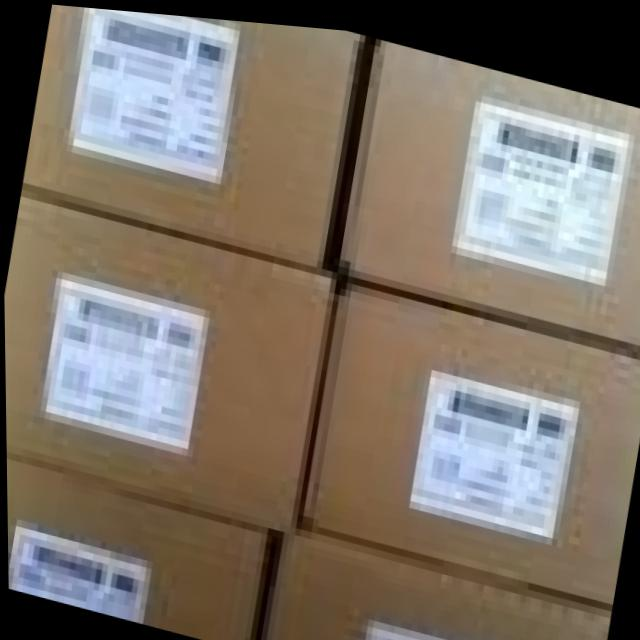box: (3, 189, 330, 529), (301, 278, 640, 593), (339, 31, 640, 334), (21, 4, 365, 262), (5, 459, 266, 640), (263, 529, 611, 640)
